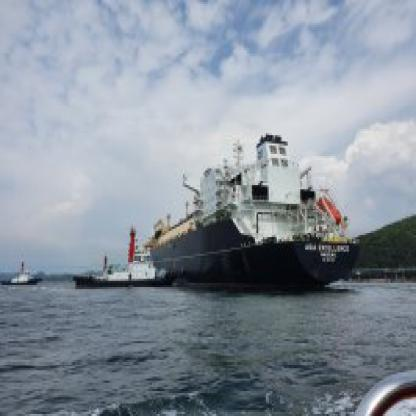fish-b: (138, 129, 366, 306)
